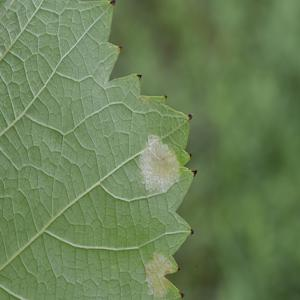Folha: (0, 0, 197, 299)
Fungo: (138, 134, 182, 194), (143, 254, 172, 298)
